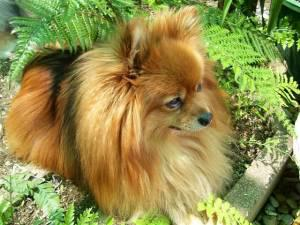dog: (109, 4, 213, 133)
